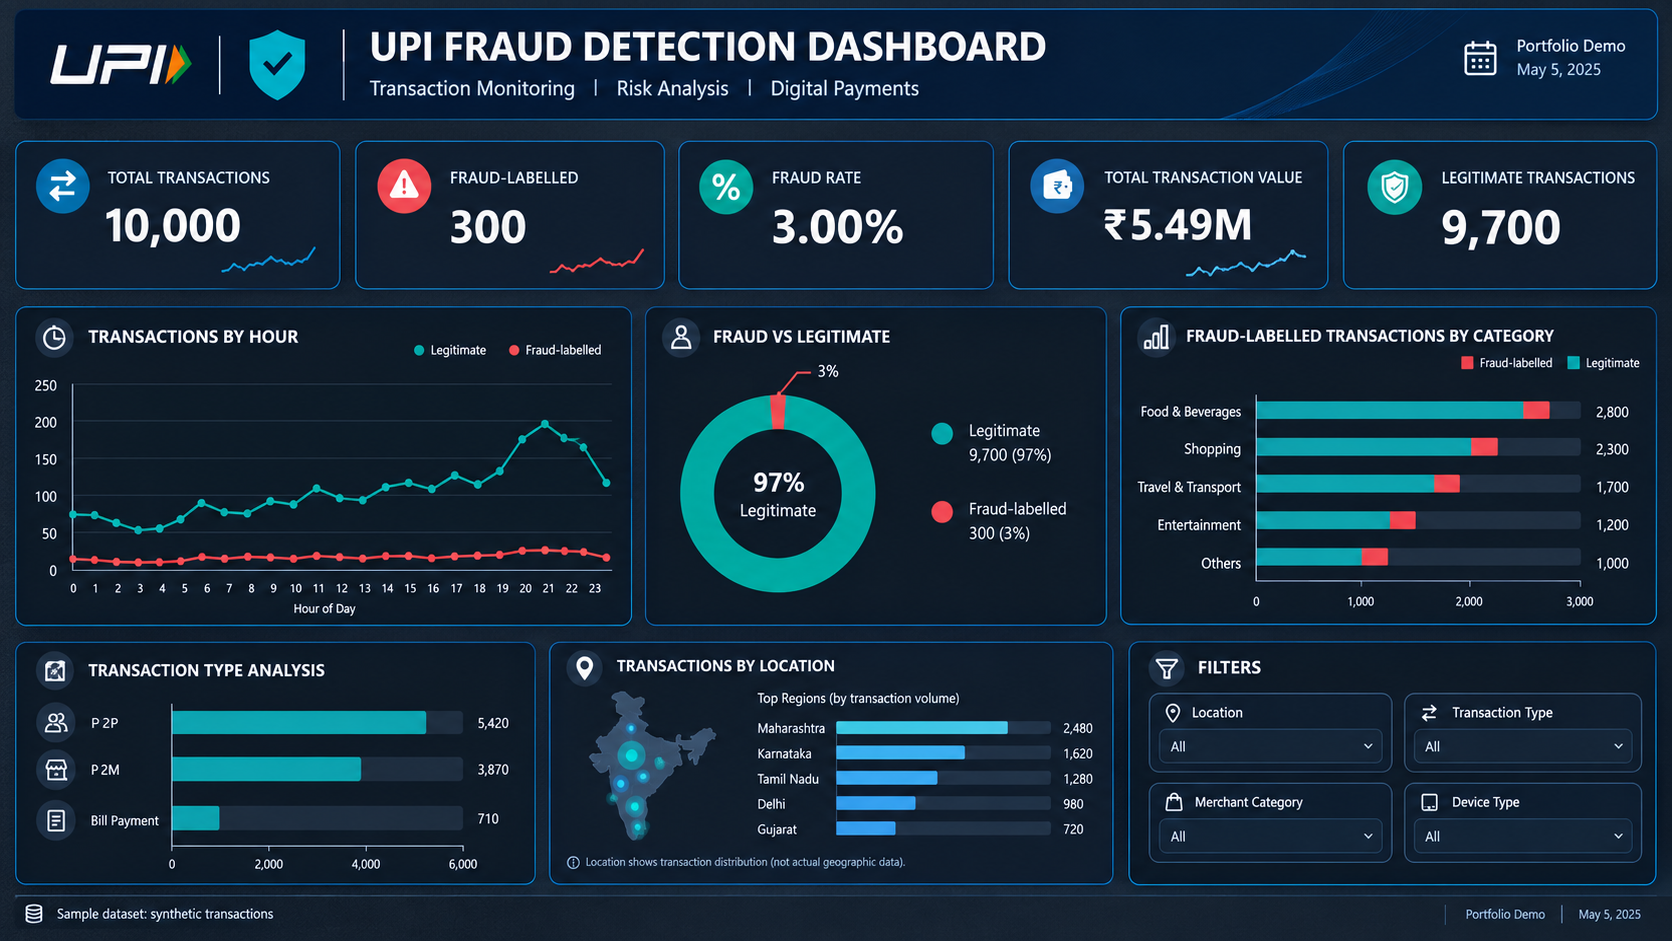

This screenshot's page, from the dashboard's own definition file:
{"tool":"powerbi","page":{"name":"Page 1","canvas":[1920,1080],"ordinal":0},"visuals":[{"type":"cardVisual","title":"FRAUD-LABELLED","fields":{"Data":["Sum(upi_fraud_db transactions.actual_fraud_label)"]},"box":[1110,0,385,122.5],"z":0},{"type":"cardVisual","fields":{"Data":["Sum(upi_fraud_db transactions.transaction_amount)"]},"box":[102.5,487.5,280,226],"z":1000},{"type":"cardVisual","fields":{"Data":["Avg(upi_fraud_db transactions.transaction_amount)"]},"box":[17.5,5,391.1,137.9],"z":2000},{"type":"cardVisual","title":"FRAUD RATE","fields":{"Data":["upi_fraud_db transactions.Fraudrate"]},"box":[1230,240,530,190],"z":3000},{"type":"donutChart","title":"Fraud vs Legitimate Transactions","fields":{"Category":["upi_fraud_db transactions.actual_fraud_label"],"Y":["CountNonNull(upi_fraud_db transactions.transaction_id)"]},"box":[475.5,284,225,219.2],"z":4000},{"type":"clusteredBarChart","title":"Transactions by Merchant Category.","fields":{"Category":["upi_fraud_db transactions.merchant_category"],"Y":["CountNonNull(upi_fraud_db transactions.transaction_id)"],"Series":["upi_fraud_db transactions.actual_fraud_label"]},"box":[541.3,541.3,634.6,276.9],"z":5000},{"type":"lineChart","title":"ransactions by Hour of Day","fields":{"Category":["upi_fraud_db transactions.hour_of_day"],"Y":["CountNonNull(upi_fraud_db transactions.transaction_id)"],"Series":["upi_fraud_db transactions.actual_fraud_label"]},"box":[94.7,712.2,430.8,230.8],"z":6000},{"type":"slicer","fields":{"Values":["upi_fraud_db transactions.location"]},"box":[734.6,817.3,246.2,263.5],"z":7000},{"type":"slicer","fields":{"Values":["upi_fraud_db transactions.transaction_type"]},"box":[800.7,273.8,209.6,121.2],"z":8000},{"type":"slicer","fields":{"Values":["upi_fraud_db transactions.merchant_category"]},"box":[1587.5,507.5,288.5,207.7],"z":9000},{"type":"cardVisual","title":"Total Transactions","fields":{"Data":["CountNonNull(upi_fraud_db transactions.transaction_id)"]},"box":[1565,0,355.8,123.1],"z":10000}]}

Visuals, with their boxes in screenshot pixels (x1, y1, x2, y2), scaled from the page's 1920x1080 canvas onto the 1672x941 screenshot:
"FRAUD-LABELLED" cardVisual: {"left": 967, "top": 0, "right": 1302, "bottom": 107}
cardVisual - Sum(upi_fraud_db transactions.transaction_amount): {"left": 89, "top": 425, "right": 333, "bottom": 622}
cardVisual - Avg(upi_fraud_db transactions.transaction_amount): {"left": 15, "top": 4, "right": 356, "bottom": 125}
"FRAUD RATE" cardVisual: {"left": 1071, "top": 209, "right": 1533, "bottom": 375}
"Fraud vs Legitimate Transactions" donutChart: {"left": 414, "top": 247, "right": 610, "bottom": 438}
"Transactions by Merchant Category." clusteredBarChart: {"left": 471, "top": 472, "right": 1024, "bottom": 713}
"ransactions by Hour of Day" lineChart: {"left": 82, "top": 621, "right": 458, "bottom": 822}
slicer - upi_fraud_db transactions.location: {"left": 640, "top": 712, "right": 854, "bottom": 940}
slicer - upi_fraud_db transactions.transaction_type: {"left": 697, "top": 239, "right": 880, "bottom": 344}
slicer - upi_fraud_db transactions.merchant_category: {"left": 1382, "top": 442, "right": 1634, "bottom": 623}
"Total Transactions" cardVisual: {"left": 1363, "top": 0, "right": 1671, "bottom": 107}
